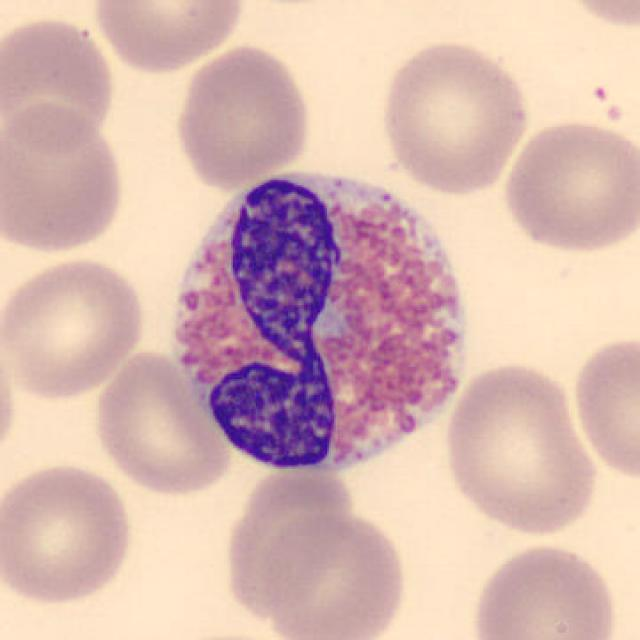Eosinophil: (158, 152, 487, 488)
RBC: (439, 356, 603, 540), (375, 35, 533, 196), (89, 347, 235, 499), (2, 252, 149, 402), (170, 42, 314, 190), (222, 459, 358, 615), (0, 458, 139, 608), (0, 99, 130, 259), (256, 508, 411, 638), (498, 115, 638, 258), (0, 10, 119, 157), (465, 537, 622, 640), (89, 0, 249, 76), (567, 330, 640, 483), (0, 319, 23, 474), (549, 0, 640, 32), (153, 627, 306, 640)
